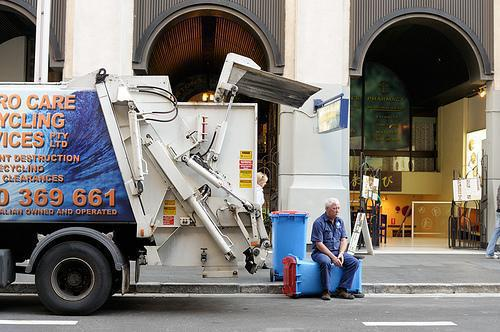Bote de Basura: (286, 259, 367, 298), (270, 209, 305, 280)
